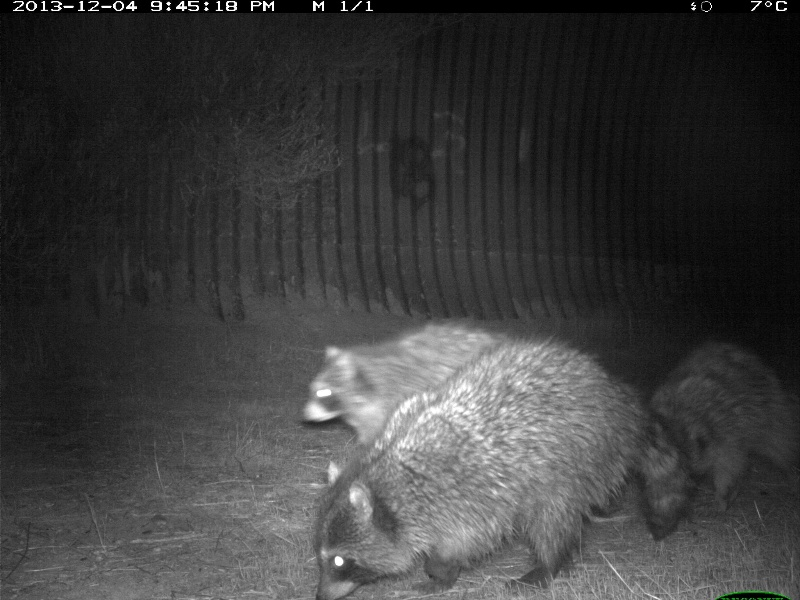raccoon: (310, 339, 688, 599), (298, 320, 532, 451), (641, 338, 798, 499)
